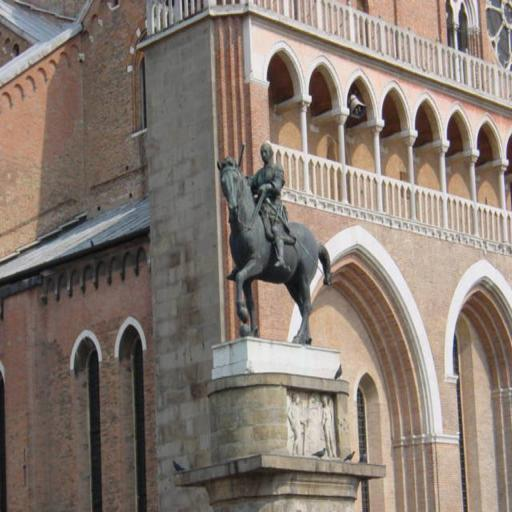Horse: (216, 158, 333, 343)
